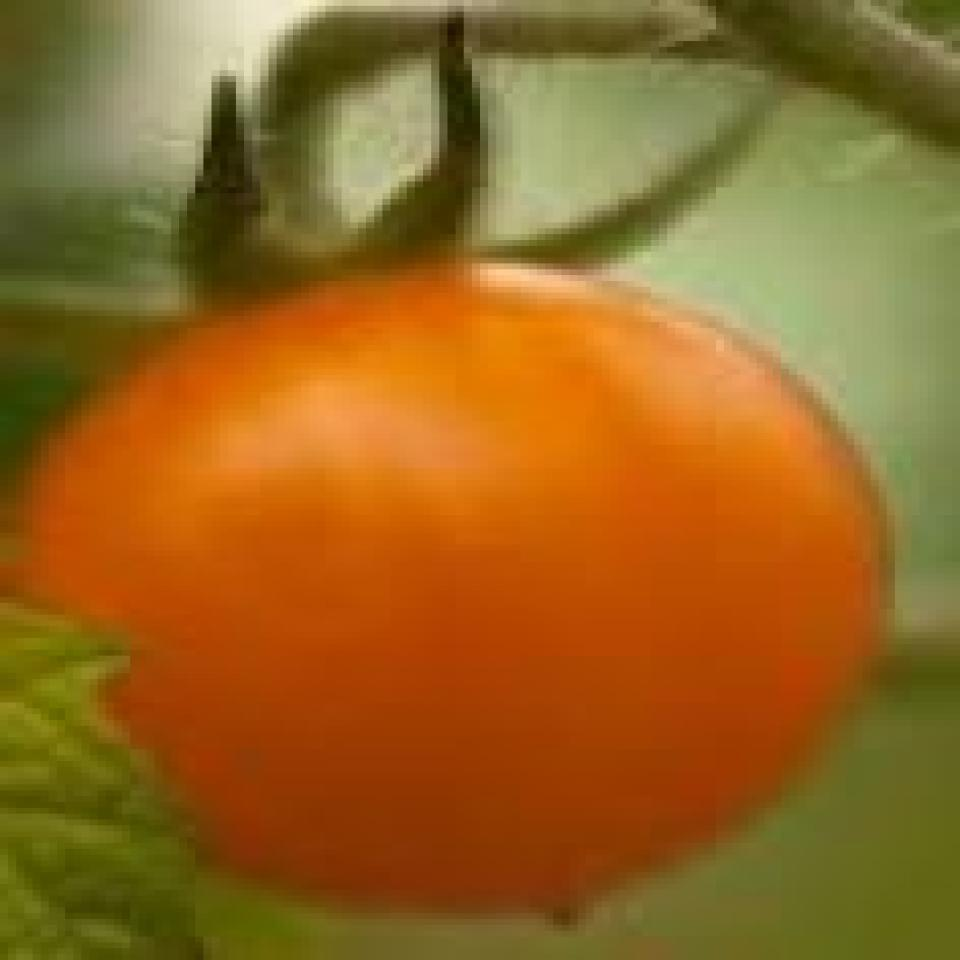Healthy: (0, 200, 960, 922)
